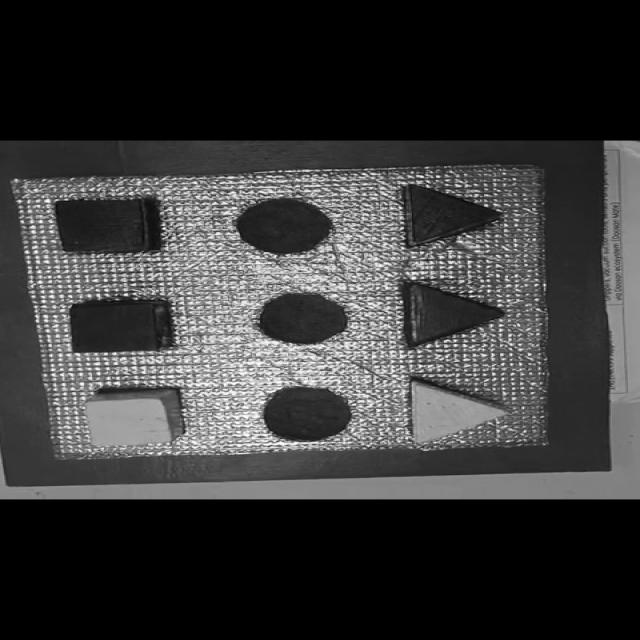bcube: (50, 197, 158, 255)
btriangle: (402, 184, 504, 248)
mtcircle: (235, 197, 334, 254), (261, 386, 353, 441), (257, 292, 350, 344)
rcube: (68, 300, 171, 354)
rtriangle: (405, 282, 508, 347)
wb: (12, 162, 560, 461)
ycube: (82, 389, 186, 448)
ytriangle: (408, 378, 512, 444)
